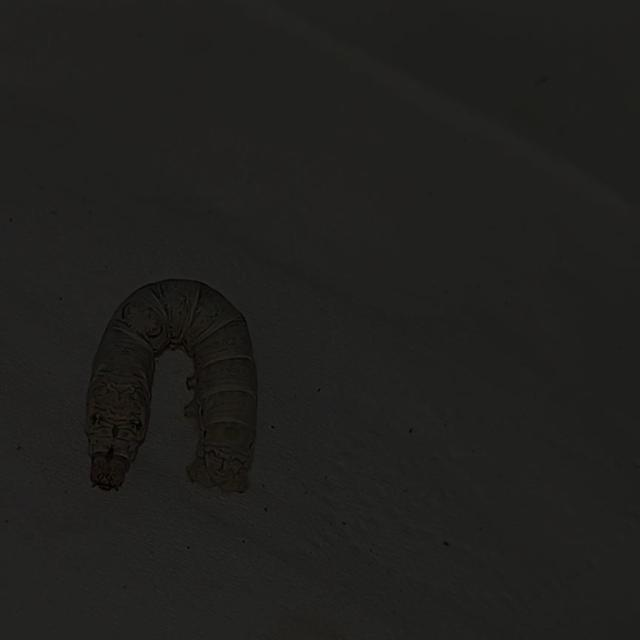Healthy: (51, 267, 292, 540)
